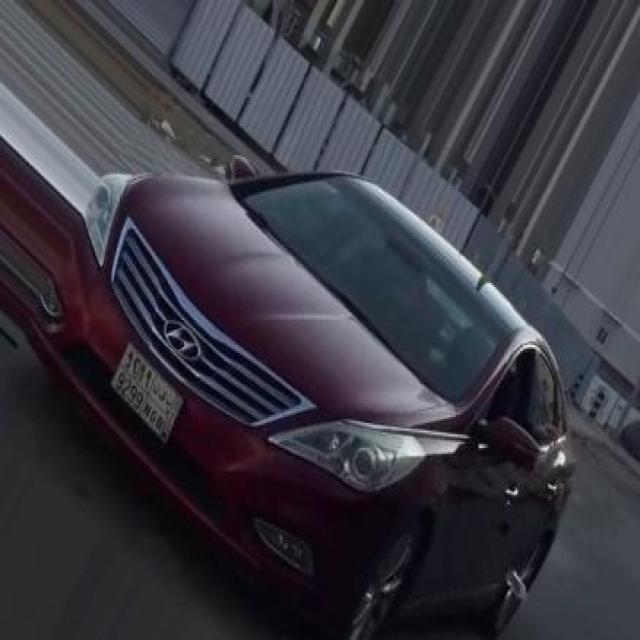Car-plate: (107, 336, 192, 451)
